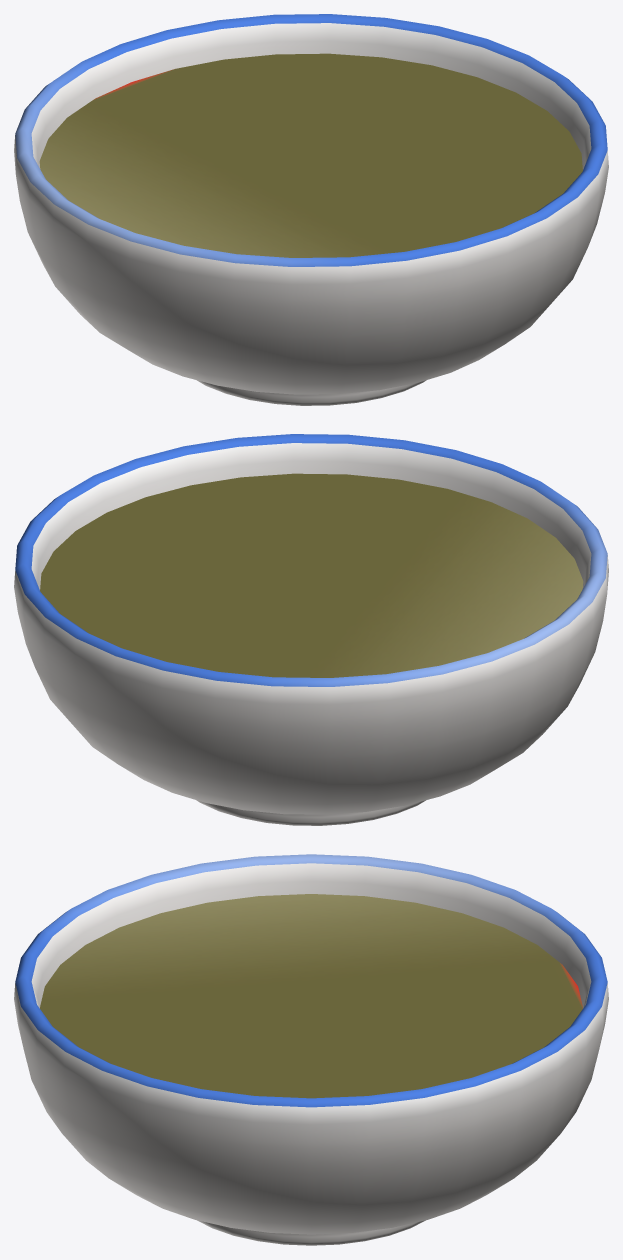
File: SoupOnion.glb
3 views of the same model, one above another, from view 1: azimuth 30°, elevation 25°; view 2: azimuth 150°, elevation 25°; view 3: azimuth 270°, elevation 25° (orthographic).
Parts seen in each view (by area): view 1: SoupOnion; view 2: SoupOnion; view 3: SoupOnion.
Boxes of the visible parts, bbox=[...] form: SoupOnion: bbox=[14, 14, 608, 405]; SoupOnion: bbox=[14, 434, 608, 825]; SoupOnion: bbox=[14, 854, 608, 1245].
Size of the model in its own units: 0.3116 by 0.1239 by 0.3116.
1 material, 1 textured.
